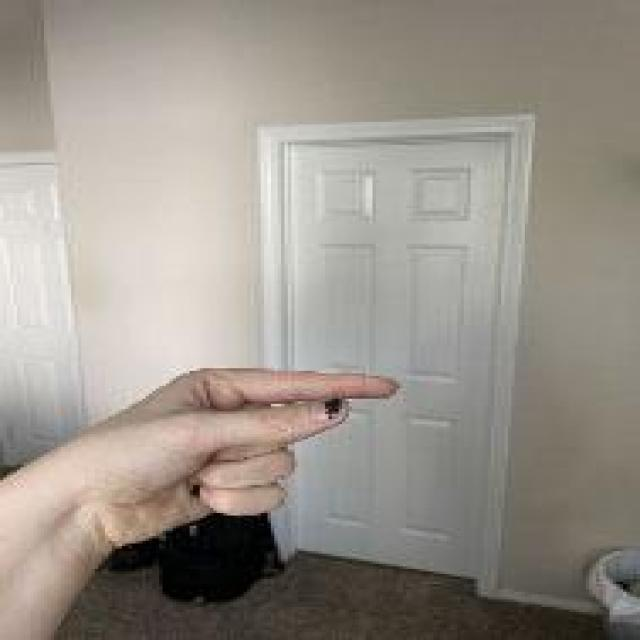G: (51, 364, 406, 534)
